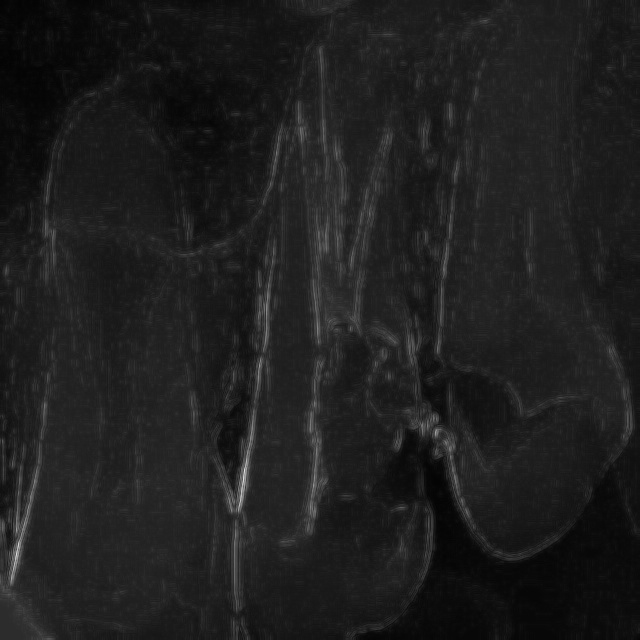Class 0- No endodontic treatment: (225, 20, 440, 336)
